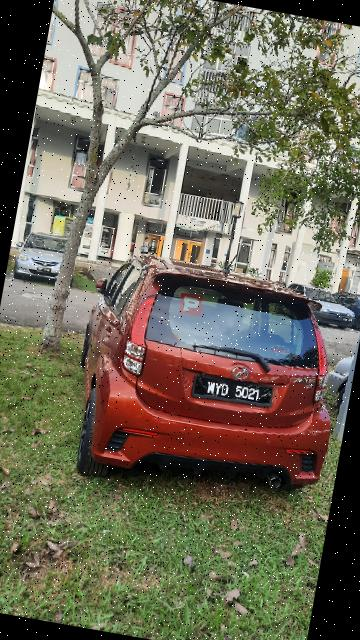License_Plate: (188, 366, 278, 413)
car: (64, 245, 358, 512)
